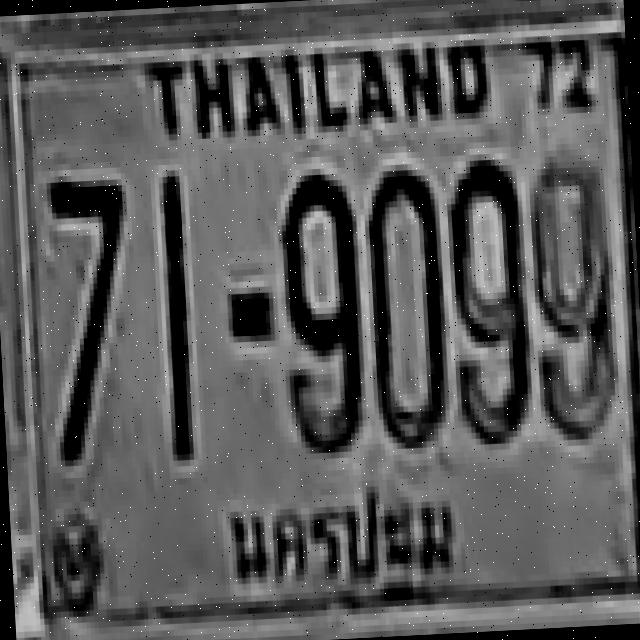0: (524, 148, 618, 436), (275, 168, 364, 448), (362, 163, 447, 444)
1: (156, 170, 196, 455)
7: (44, 173, 134, 461)
9: (524, 148, 618, 436), (440, 152, 530, 440), (274, 164, 364, 452)
NakhonPathom: (220, 471, 476, 617)
